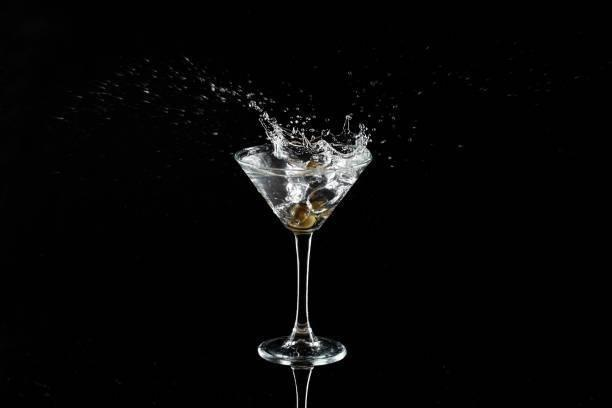glass-wine: (232, 135, 374, 367)
